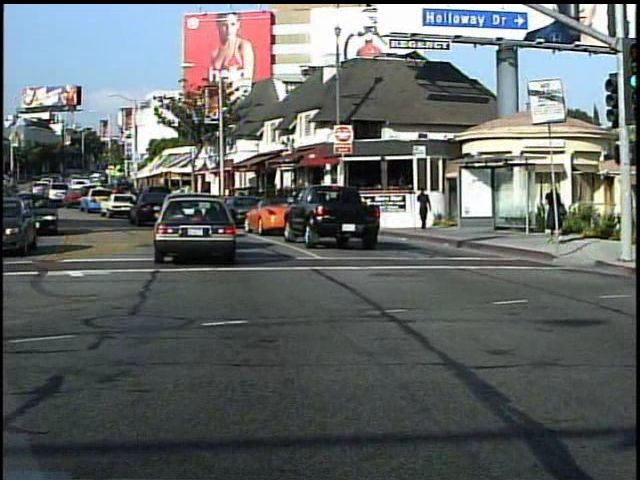person: (539, 179, 569, 252), (416, 185, 432, 235)
